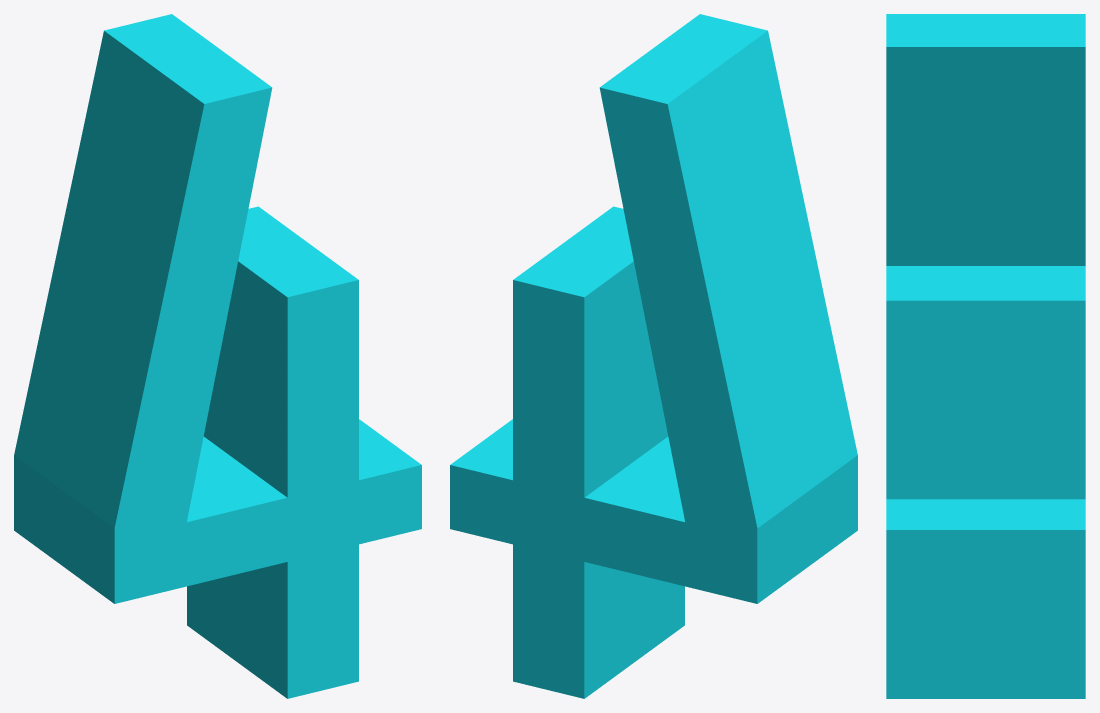
The model's file is digit4.glb.
3 views of the same model, side by side, from view 1: azimuth 30°, elevation 25°; view 2: azimuth 150°, elevation 25°; view 3: azimuth 270°, elevation 25° (orthographic).
Parts seen in each view (by area): view 1: Digit4; view 2: Digit4; view 3: Digit4.
Part boxes in pixels (box(x1,y1,x2,y2)): Digit4: box(14, 14, 421, 698); Digit4: box(450, 14, 857, 698); Digit4: box(886, 14, 1085, 698).
Bounding box in the file's own units: 0.3358 × 0.6422 × 0.19.
